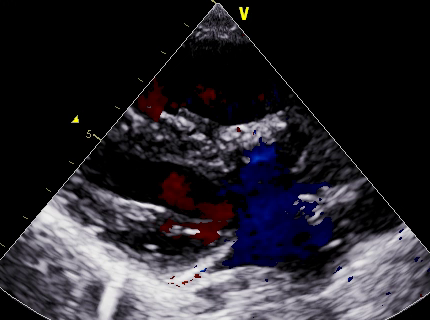AR: (160, 167, 249, 231)
